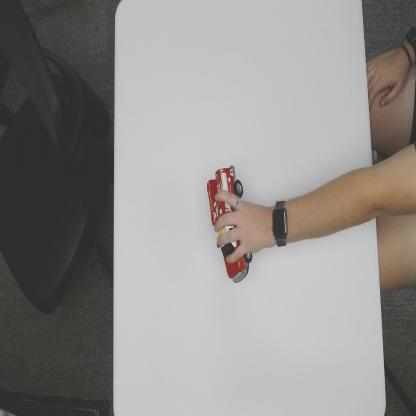Arm: (292, 134, 416, 248)
Firetruck: (206, 164, 253, 284)
Hand: (212, 190, 272, 266)
